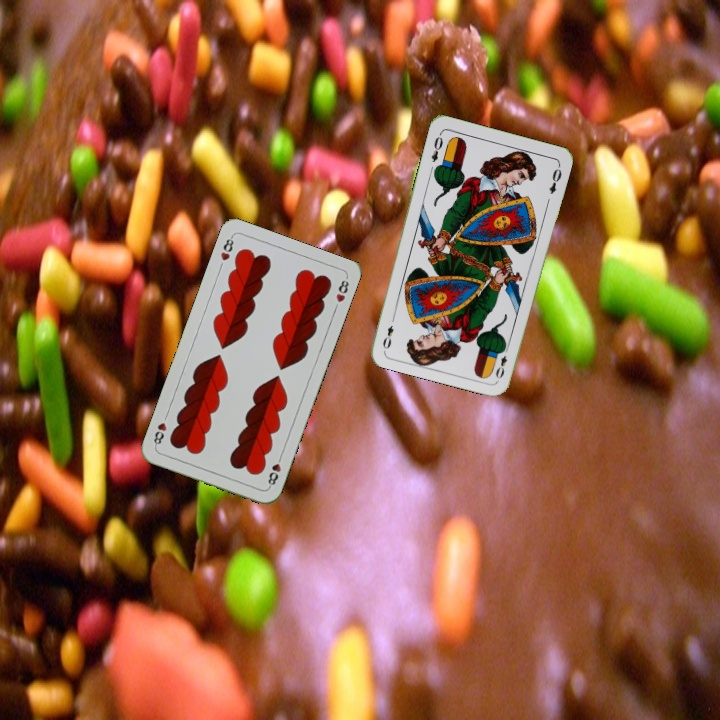EO: (492, 342, 511, 381), (427, 129, 445, 165)
H8: (264, 451, 285, 490), (216, 232, 236, 263)
